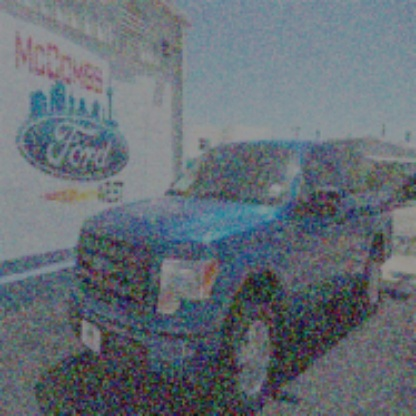Vehicle: (64, 137, 398, 415)
